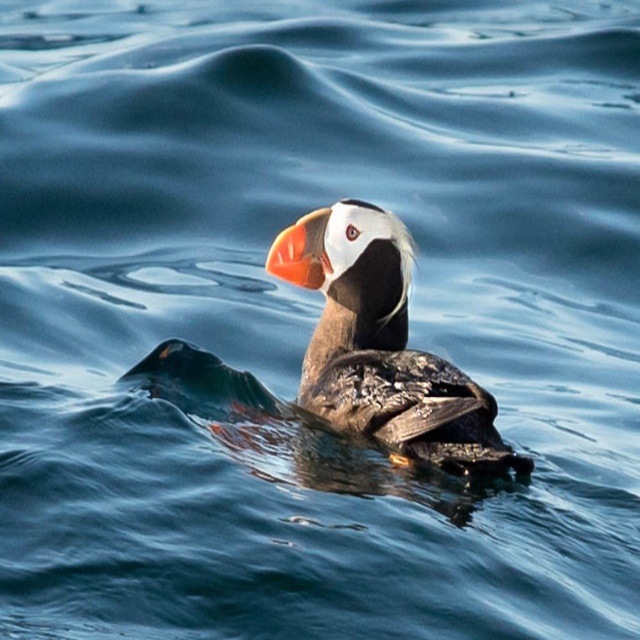Duck: (265, 197, 535, 488)
